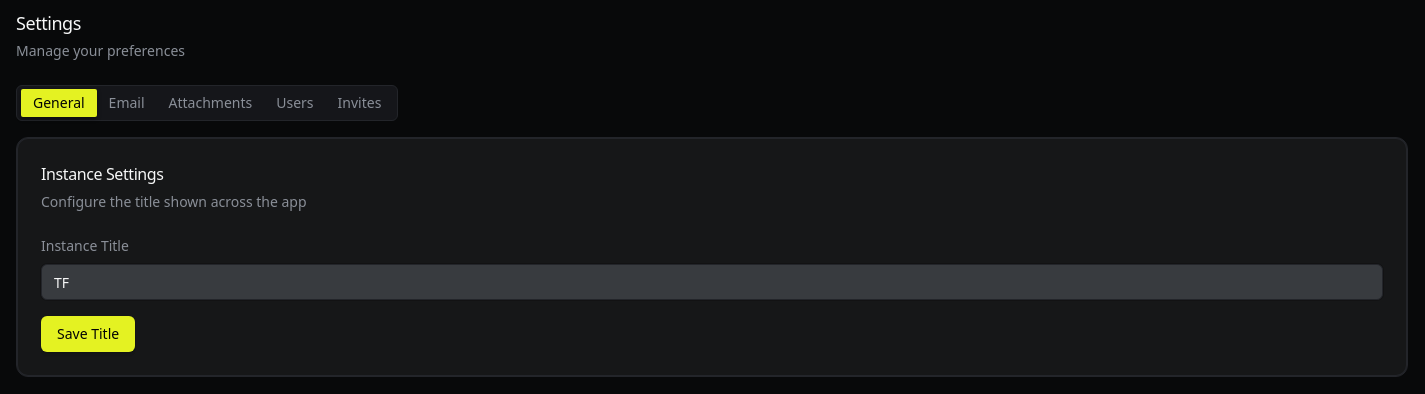
it: SettingsPage Invites tab › shows recipient email column
Click the tab "Invites": (360, 103) [326, 89, 393, 117]
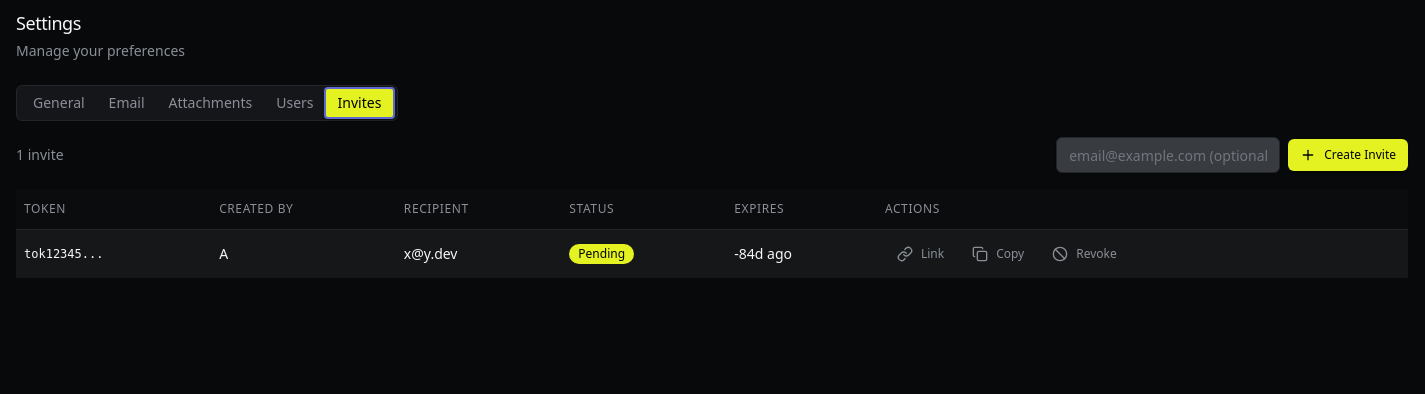
Check: the text "x@y.dev" is shown, box [396, 229, 561, 278]
